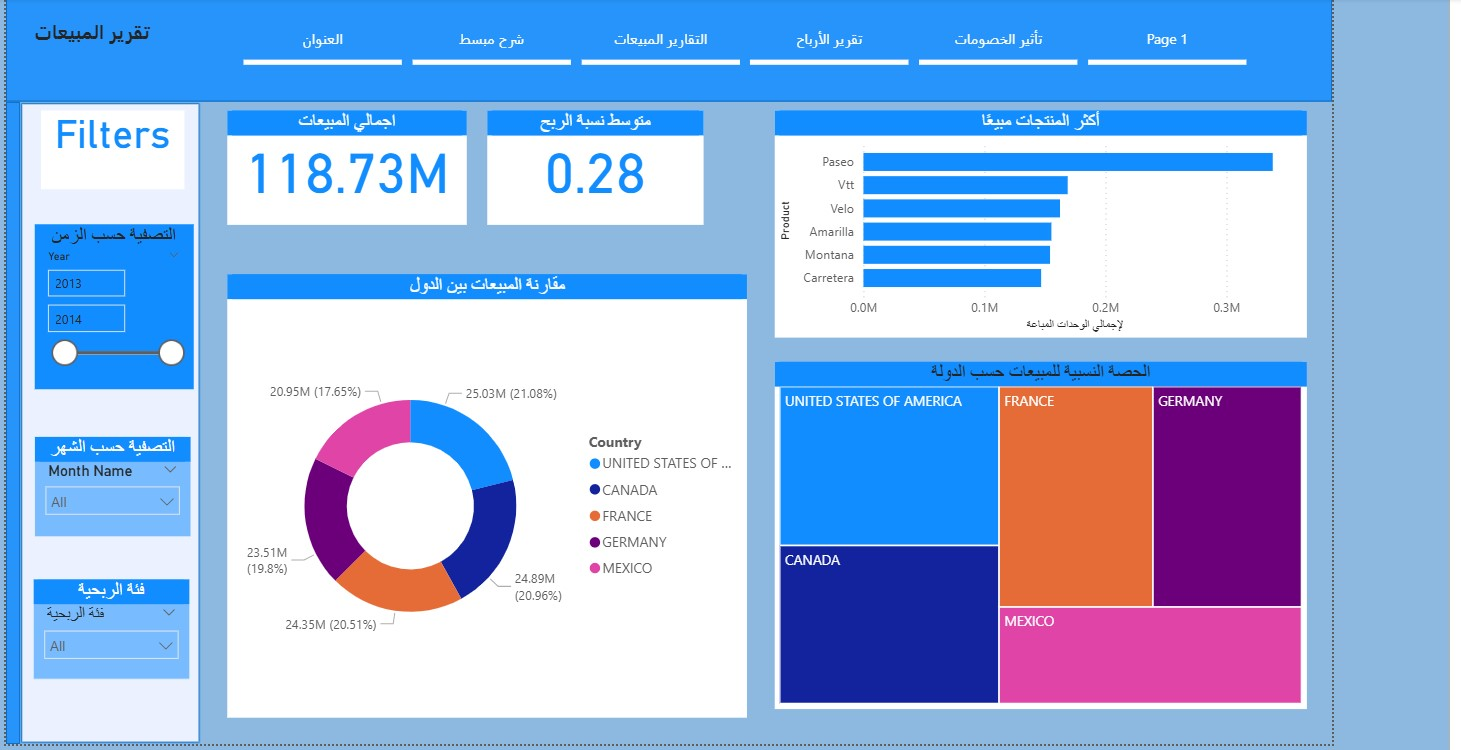

What the dashboard file says about the page in this screenshot:
{"tool":"powerbi","page":{"name":"التقارير المبيعات","canvas":[1280,720],"ordinal":2},"visuals":[{"type":"shape","box":[0,0,1280,100],"z":0},{"type":"shape","box":[0,100,13.8,620],"z":1000},{"type":"shape","box":[13.8,100,175,620],"z":2000},{"type":"textbox","box":[0,15,166.2,35],"z":3000},{"type":"card","title":"اجمالي المبيعات","fields":{"Values":["financials.اجمالي المبيعات"]},"box":[213.8,108.8,231.2,110],"z":4000},{"type":"donutChart","title":"مقارنة المبيعات بين الدول","fields":{"Category":["financials.Country"],"Y":["financials.اجمالي المبيعات"]},"box":[213.8,258.8,501.2,427.5],"z":5000},{"type":"clusteredBarChart","title":"أكثر المنتجات مبيعًا","fields":{"Category":["financials.Product"],"Y":["financials.لإجمالي الوحدات المباعة"]},"box":[742.3,108.8,513.6,218.9],"z":6000},{"type":"slicer","title":"التصفية حسب الزمن","fields":{"Values":["financials.Year"]},"box":[27.5,218.8,152.5,158.8],"z":7000},{"type":"treemap","title":"الحصة النسبية للمبيعات حسب الدولة","fields":{"Values":["Sum(financials. Sales)"],"Group":["financials.Country"]},"box":[742.3,351,513.6,335.1],"z":8000},{"type":"slicer","title":"التصفية حسب الشهر","fields":{"Values":["financials.Month Name"]},"box":[27.5,423.8,150,96.2],"z":9000},{"type":"card","title":"متوسط نسبة الربح","fields":{"Values":["financials.متوسط نسبة الربح"]},"box":[465,108.8,208.8,110],"z":10000},{"type":"slicer","title":"فئة الربحية","fields":{"Values":["financials.فئة الربحية"]},"box":[26.2,561.2,150,96.2],"z":11000},{"type":"textbox","title":"Filters","box":[33.8,108.8,138.8,76.2],"z":12000},{"type":"pageNavigator","box":[228.8,15,972.5,50],"z":13000}]}

Visuals, with their boxes on the page's 1280x720 design canvas (x1, y1, x2, y2). These are canvas units, not pixel positions in the 1461x750 screenshot, which may show the page scaled, cropped or inside an application window:
shape: box(0, 0, 1280, 100)
shape: box(0, 100, 14, 720)
shape: box(14, 100, 189, 720)
textbox: box(0, 15, 166, 50)
"اجمالي المبيعات" card: box(214, 109, 445, 219)
"مقارنة المبيعات بين الدول" donutChart: box(214, 259, 715, 686)
"أكثر المنتجات مبيعًا" clusteredBarChart: box(742, 109, 1256, 328)
"التصفية حسب الزمن" slicer: box(28, 219, 180, 378)
"الحصة النسبية للمبيعات حسب الدولة" treemap: box(742, 351, 1256, 686)
"التصفية حسب الشهر" slicer: box(28, 424, 178, 520)
"متوسط نسبة الربح" card: box(465, 109, 674, 219)
"فئة الربحية" slicer: box(26, 561, 176, 657)
"Filters" textbox: box(34, 109, 173, 185)
pageNavigator: box(229, 15, 1201, 65)
